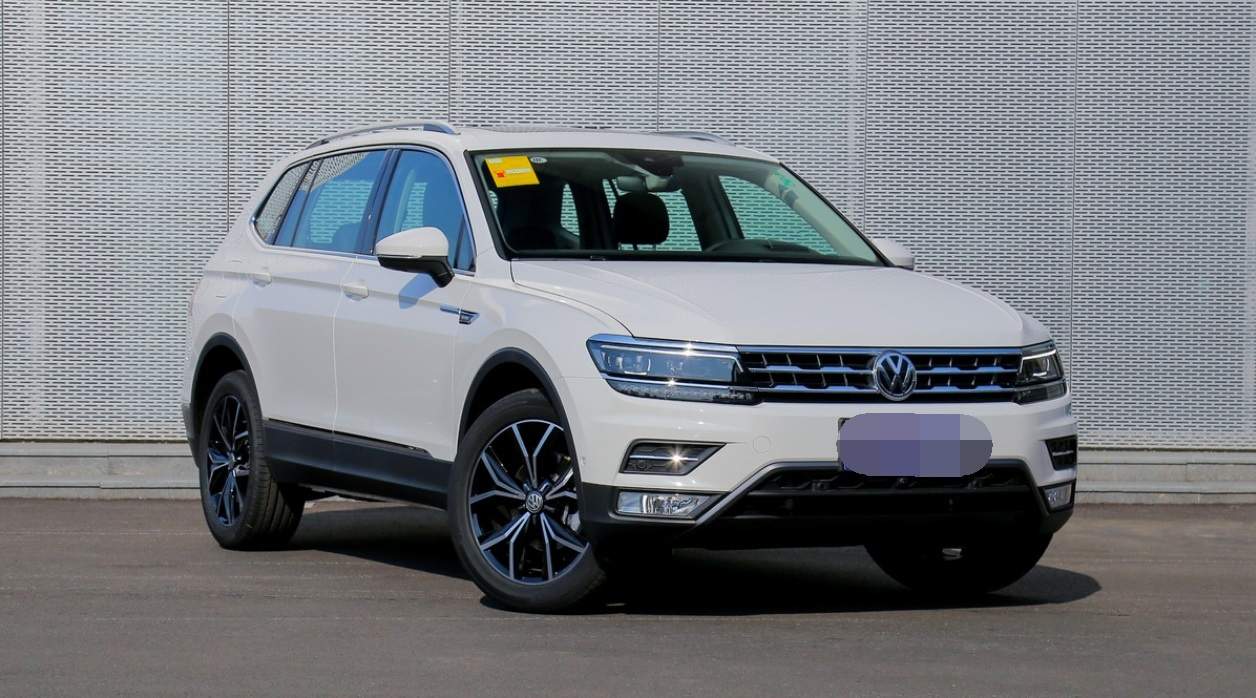SUV: (155, 100, 1093, 624)
